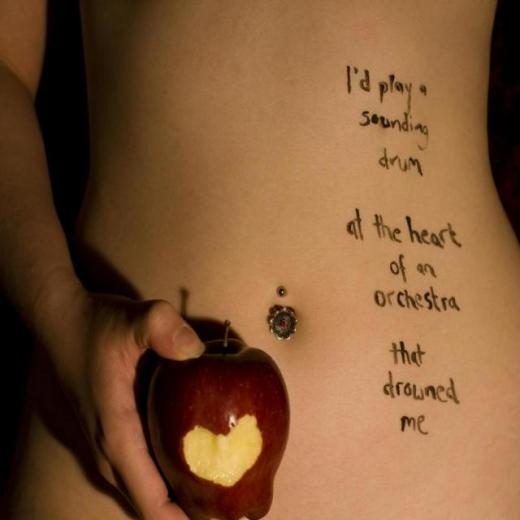Apple: (143, 322, 292, 516)
